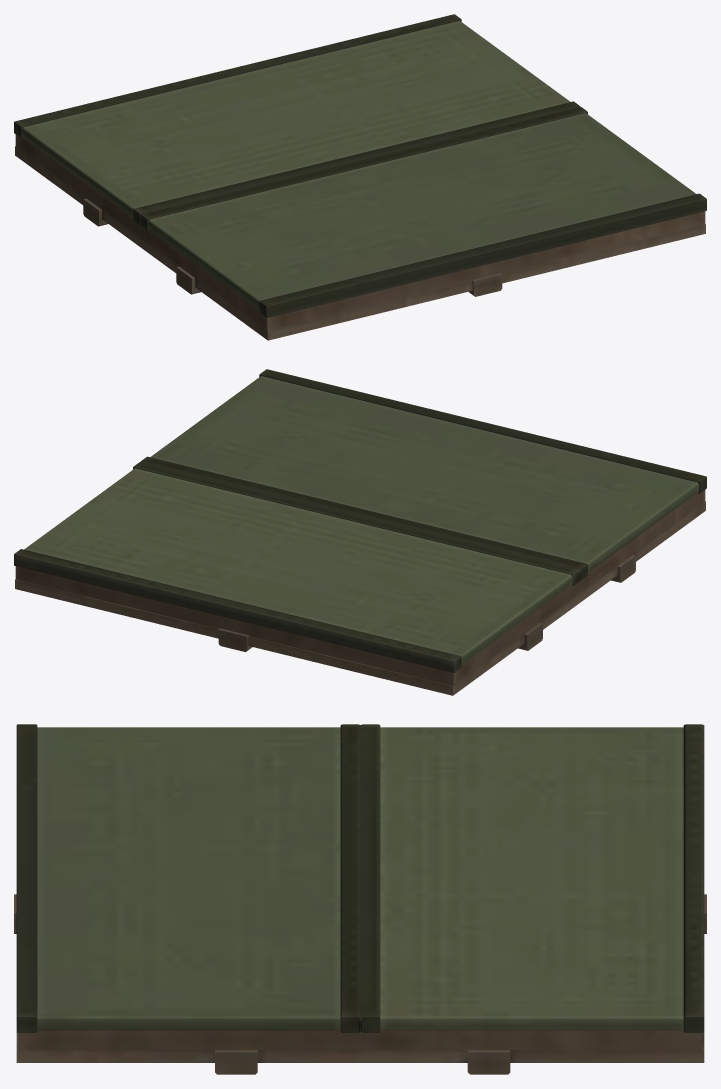
The model's file is Architecture_JapaneseStyle_Roof_36d024.glb.
3 views of the same model, one above another, from view 1: azimuth 30°, elevation 25°; view 2: azimuth 150°, elevation 25°; view 3: azimuth 270°, elevation 25° (orthographic). The views are drawn at different scales.
Bounding box in the file's own units: 4.05 × 0.367 × 4.03.
Materials: 1 (1 with a texture image).
